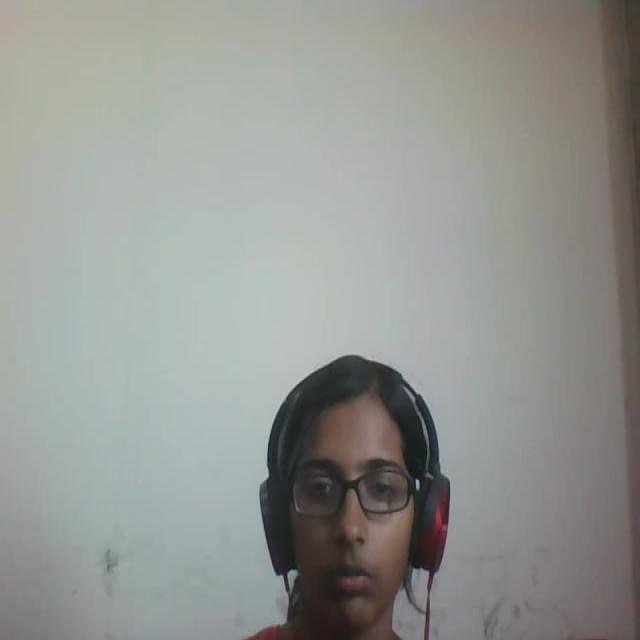Engaged: (235, 334, 494, 640)
